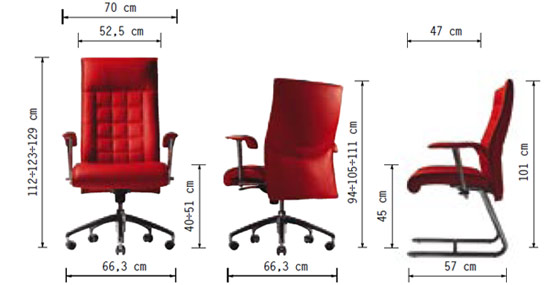chairs: (56, 59, 180, 257), (215, 70, 343, 256), (401, 79, 514, 259)
